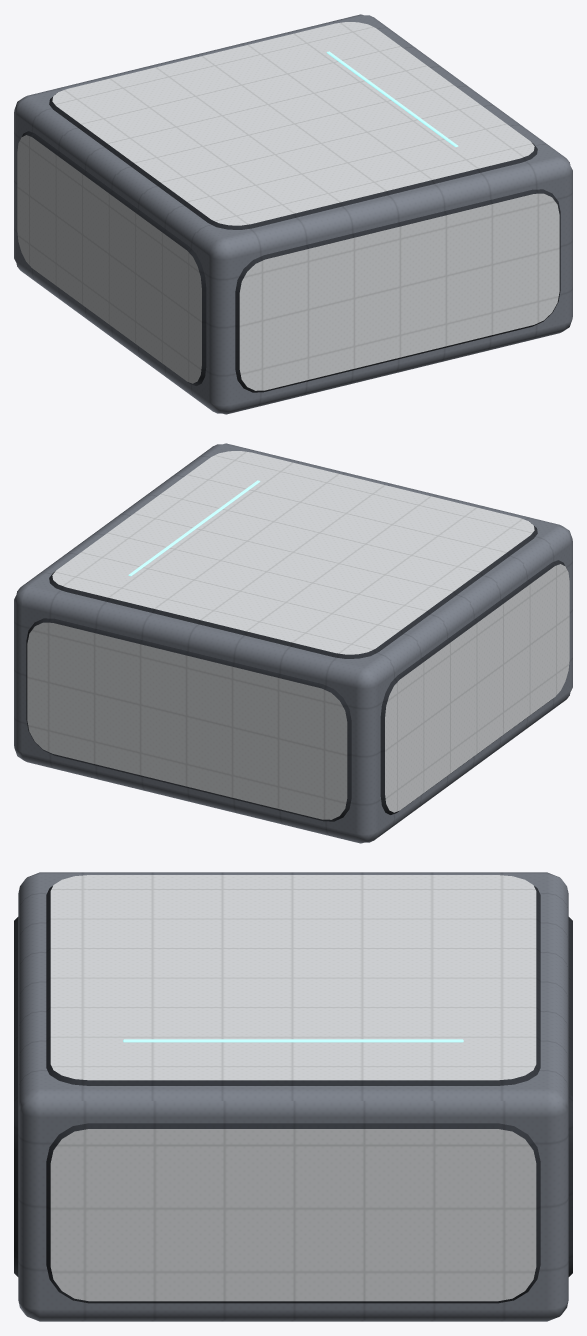
Rendered from R4B_HalfBlock.glb.
3 renders of one model, top to bottom at view 1: azimuth 30°, elevation 25°; view 2: azimuth 150°, elevation 25°; view 3: azimuth 270°, elevation 25°, orthographic. The views are drawn at different scales.
Parts seen in each view (by area): view 1: R4B_HalfBlock; view 2: R4B_HalfBlock; view 3: R4B_HalfBlock.
Part boxes in pixels (<box>): R4B_HalfBlock: <box>14,14,572,414</box>; R4B_HalfBlock: <box>14,443,572,843</box>; R4B_HalfBlock: <box>14,872,572,1321</box>.
Size of the model in its own units: 0.52 by 0.2462 by 0.52.
Materials: 4 (3 with a texture image).
